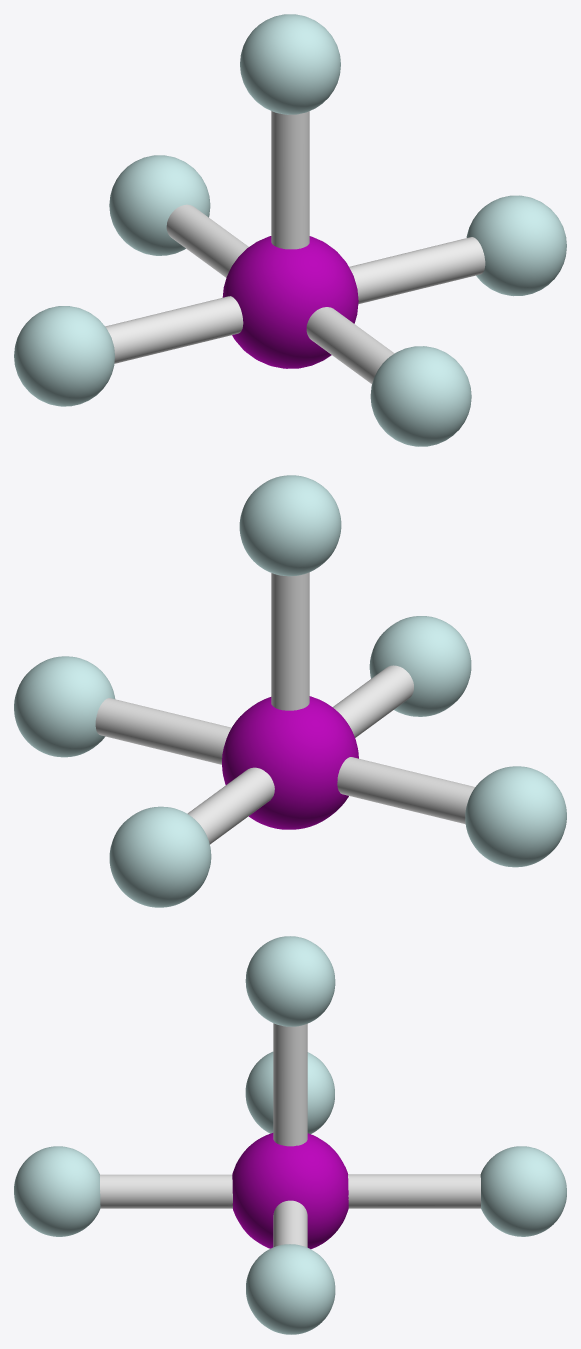
3 views of the same model, one above another, from view 1: azimuth 30°, elevation 25°; view 2: azimuth 150°, elevation 25°; view 3: azimuth 270°, elevation 25° (orthographic). The views are drawn at different scales.
Parts seen in each view (by area): view 1: Iodine; view 2: Iodine; view 3: Iodine.
Boxes of the visible parts, x1=… form: Iodine: x1=14, y1=14, x2=566, y2=446; Iodine: x1=14, y1=475, x2=566, y2=907; Iodine: x1=14, y1=936, x2=566, y2=1334.
Bounding box in the file's own units: 444 × 270 × 443.
